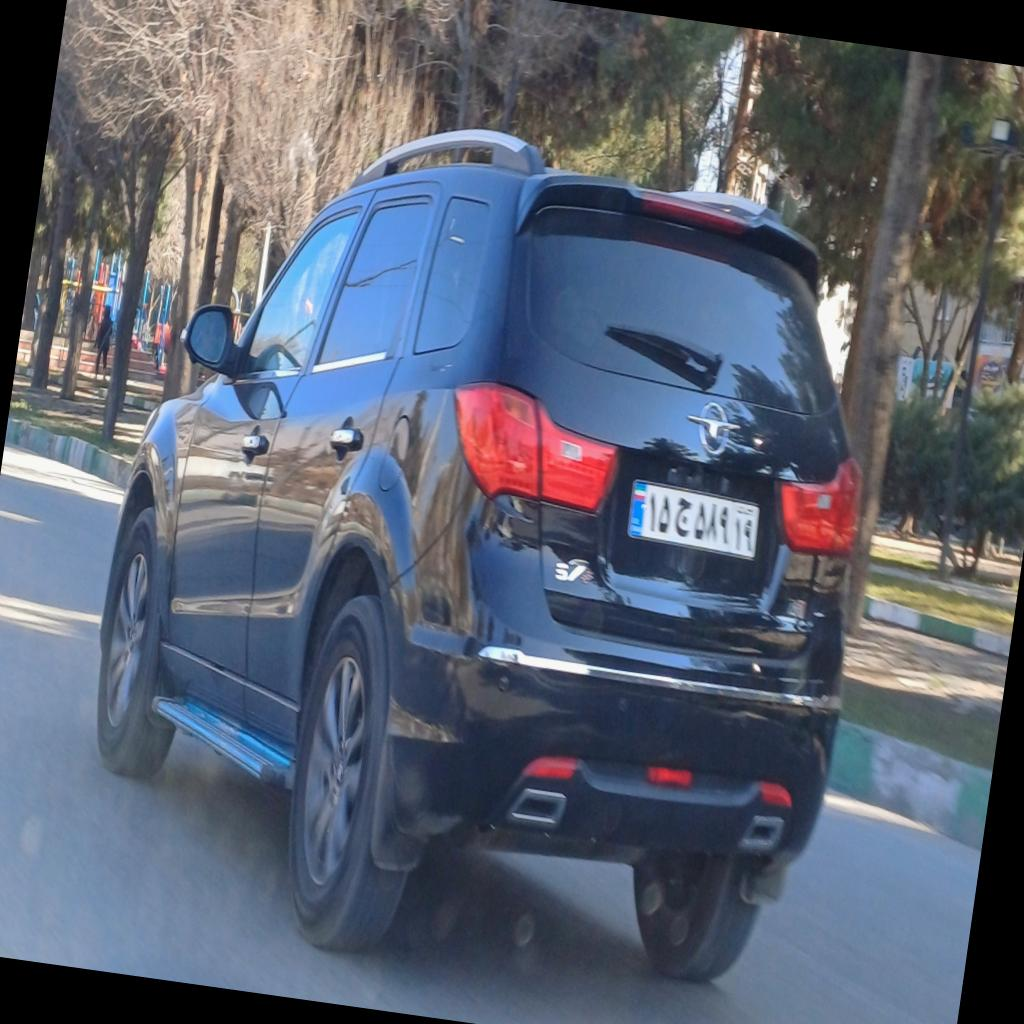Plates: (626, 482, 762, 557)
